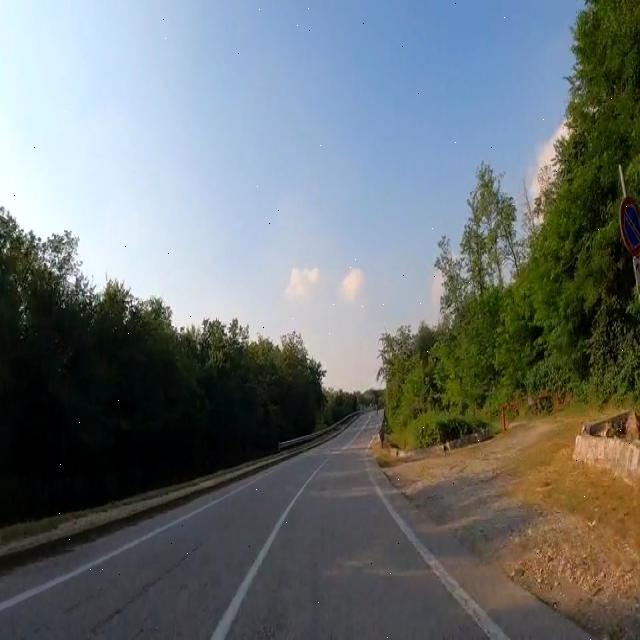lane: (0, 480, 256, 611), (368, 470, 509, 640), (211, 460, 327, 639)
road: (0, 411, 589, 640)
